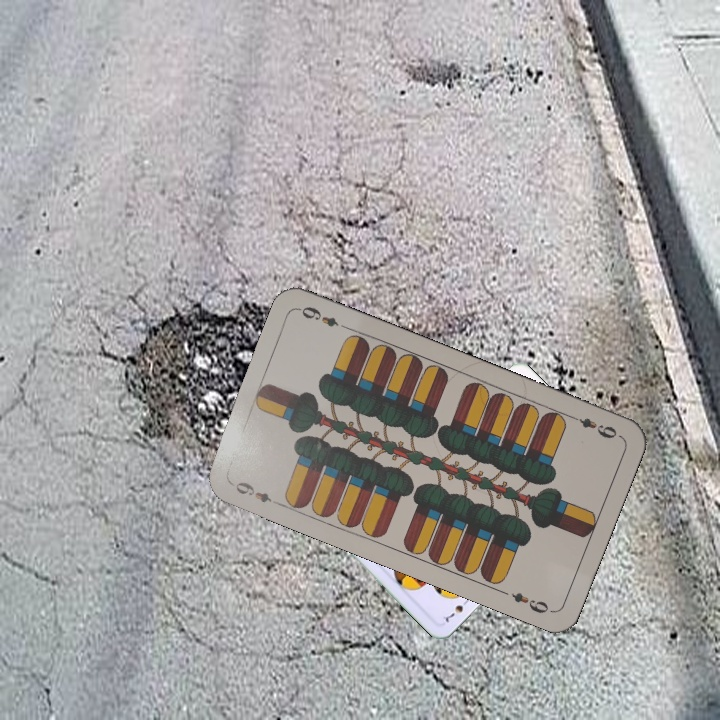E9: (566, 411, 623, 442), (231, 478, 283, 509)
S7: (439, 594, 472, 625)
